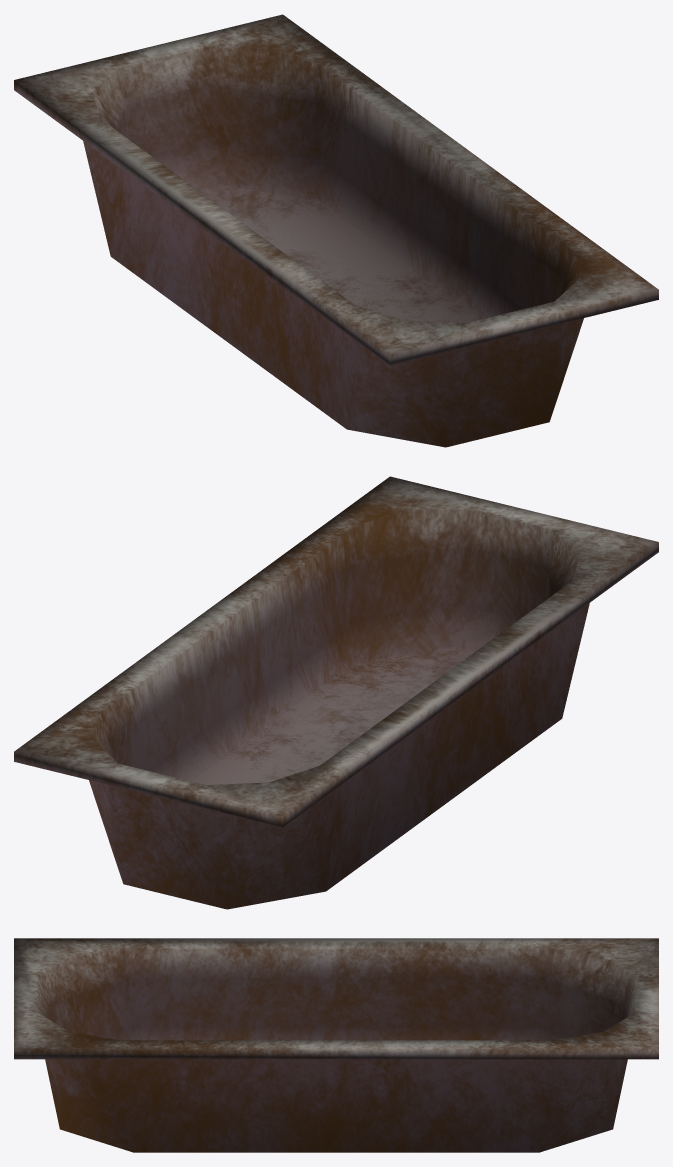
File: Bathtub.glb
3 views of the same model, one above another, from view 1: azimuth 30°, elevation 25°; view 2: azimuth 150°, elevation 25°; view 3: azimuth 270°, elevation 25° (orthographic). The views are drawn at different scales.
Parts seen in each view (by area): view 1: Bathtub; view 2: Bathtub; view 3: Bathtub.
Boxes of the visible parts, <box> form: Bathtub: <box>14,14,658,447</box>; Bathtub: <box>14,476,658,909</box>; Bathtub: <box>14,938,658,1152</box>.
Bounding box in the file's own units: 0.9766 × 0.4578 × 2.37.
Materials: 1 (1 with a texture image).
